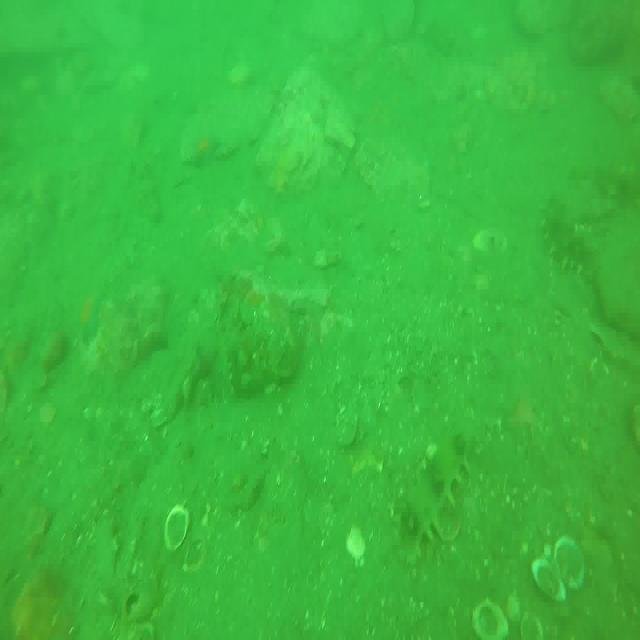holothurian: (396, 423, 476, 563), (542, 192, 600, 280)
scallop: (533, 540, 591, 607), (475, 598, 508, 640), (162, 509, 192, 554), (517, 614, 543, 640)
starfish: (74, 282, 107, 351), (191, 132, 221, 166)
